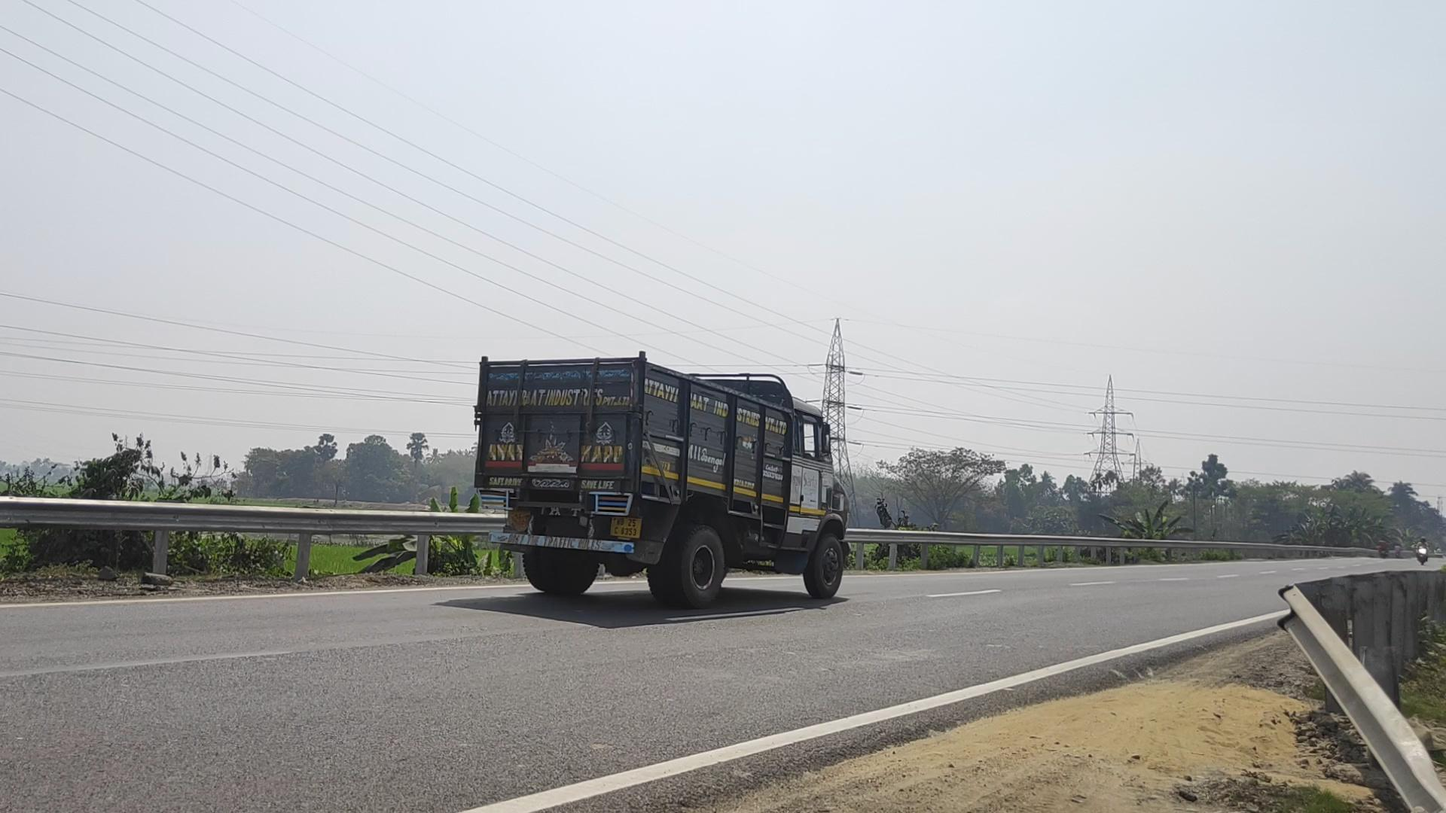truck: (474, 349, 853, 611)
